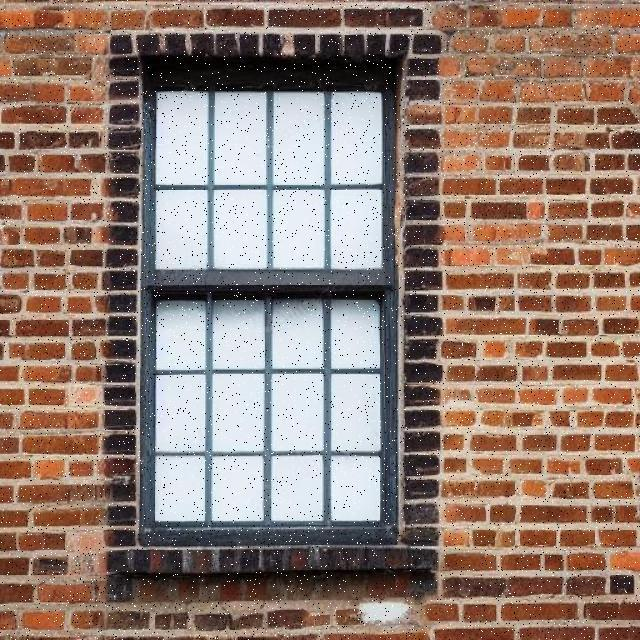window: (136, 54, 400, 544)
